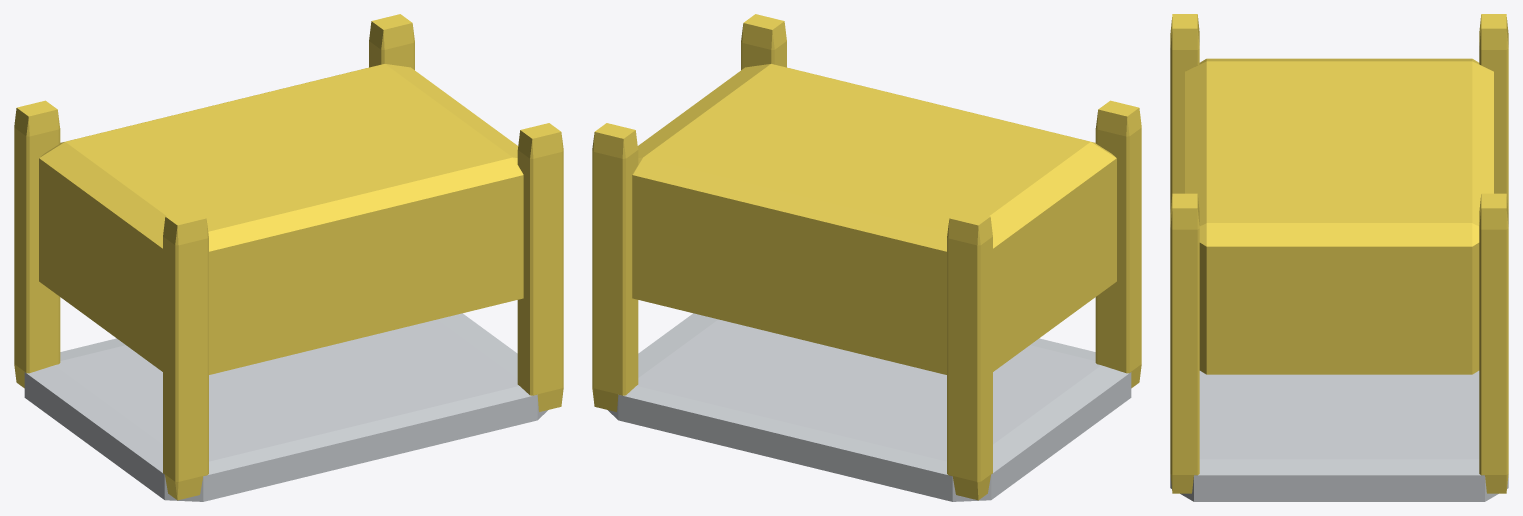
File: b07_electric_rebar_bending_table.glb
3 renders of one model, left to right at view 1: azimuth 30°, elevation 25°; view 2: azimuth 150°, elevation 25°; view 3: azimuth 270°, elevation 25°, orthographic. The views are drawn at different scales.
Visible parts, largest first — view 1: b07_electric_rebar_bending_table; view 2: b07_electric_rebar_bending_table; view 3: b07_electric_rebar_bending_table.
Boxes of the visible parts, x1=… form: b07_electric_rebar_bending_table: x1=14, y1=14, x2=563, y2=501; b07_electric_rebar_bending_table: x1=592, y1=14, x2=1141, y2=501; b07_electric_rebar_bending_table: x1=1170, y1=14, x2=1508, y2=501.
Bounding box in the file's own units: 1.8 × 1.26 × 1.31.
